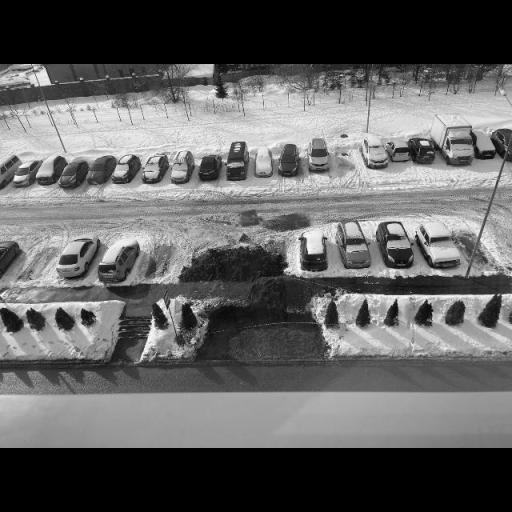busy: (416, 220, 462, 268), (376, 220, 419, 271), (98, 236, 145, 282), (434, 120, 478, 168), (54, 235, 100, 280), (336, 222, 374, 269), (298, 230, 332, 274), (221, 142, 254, 181), (302, 140, 334, 176), (360, 138, 392, 170), (110, 154, 142, 184), (10, 157, 42, 187), (273, 144, 300, 178), (34, 157, 64, 187), (59, 160, 90, 189), (86, 155, 116, 184), (168, 152, 195, 184), (140, 154, 168, 184), (0, 239, 19, 283), (196, 152, 223, 182), (0, 150, 19, 192), (409, 136, 436, 165), (253, 145, 273, 181), (388, 137, 414, 164), (4, 65, 50, 79), (493, 128, 510, 160)
free: (458, 224, 492, 267), (22, 242, 56, 278), (334, 148, 360, 174)
